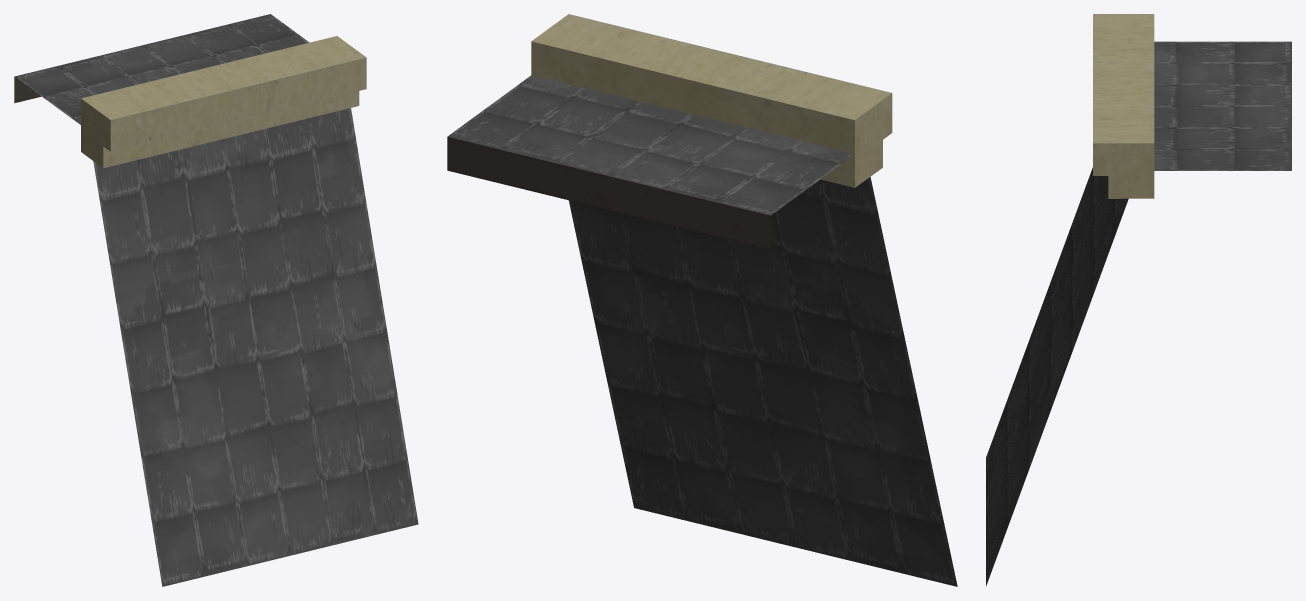
The model's file is roof_slatecornice_center.glb.
3 renders of one model, left to right at view 1: azimuth 30°, elevation 25°; view 2: azimuth 150°, elevation 25°; view 3: azimuth 270°, elevation 25°, orthographic. The views are drawn at different scales.
Parts seen in each view (by area): view 1: Roof_SlateCornice_Center; view 2: Roof_SlateCornice_Center; view 3: Roof_SlateCornice_Center.
Boxes of the visible parts, left/top/right/bottom form: Roof_SlateCornice_Center: left=14, top=14, right=418, bottom=586; Roof_SlateCornice_Center: left=447, top=14, right=957, bottom=586; Roof_SlateCornice_Center: left=986, top=14, right=1291, bottom=586.
Bounding box in the file's own units: 2 × 3.2 × 2.
Materials: 3 (3 with a texture image).
